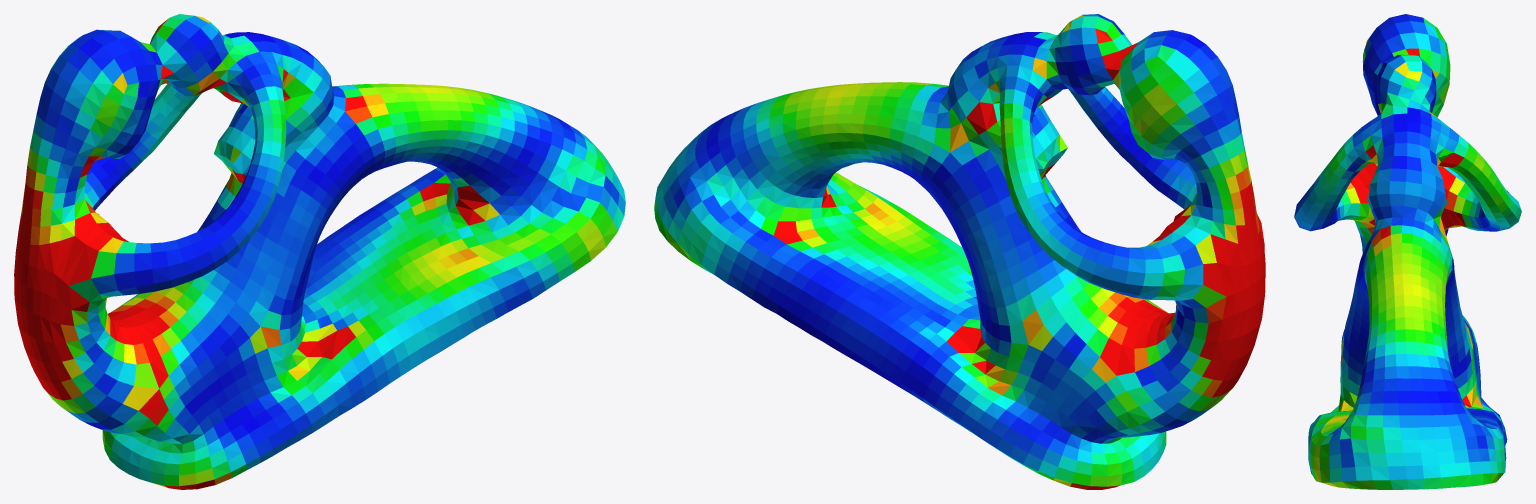
File: fertility_no_opt_quality.obj
3 views of the same model, side by side, from view 1: azimuth 30°, elevation 25°; view 2: azimuth 150°, elevation 25°; view 3: azimuth 270°, elevation 25° (orthographic). The views are drawn at different scales.
Size of the model in its own units: 198 by 144 by 73.14.
